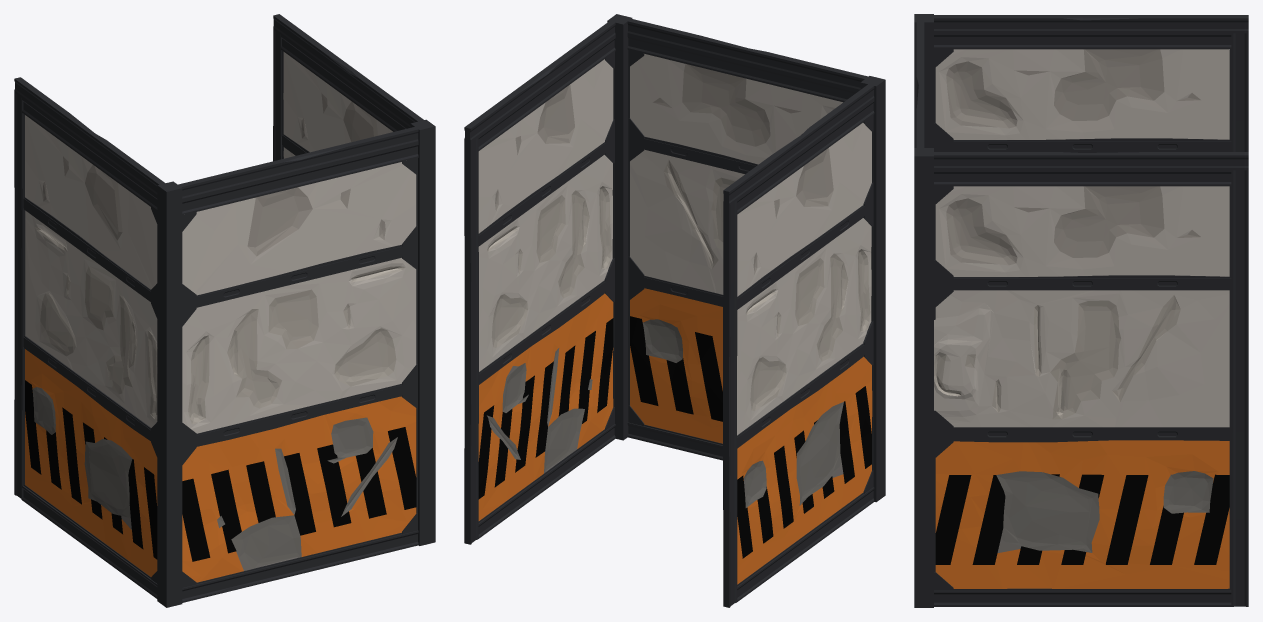
The model's file is SM_Wall_Angle_Broken_04.gltf.
The picture shows the model from 3 angles, left to right: view 1: azimuth 30°, elevation 25°; view 2: azimuth 150°, elevation 25°; view 3: azimuth 270°, elevation 25°; orthographic projection. The views are drawn at different scales.
Visible parts, largest first — view 1: SM_Wall_Angle_Broken_04; view 2: SM_Wall_Angle_Broken_04; view 3: SM_Wall_Angle_Broken_04.
Boxes of the visible parts, x1,y1,x2,y2 form: SM_Wall_Angle_Broken_04: (14,14,435,607); SM_Wall_Angle_Broken_04: (464,14,885,607); SM_Wall_Angle_Broken_04: (914,14,1248,607).
Bounding box in the file's own units: 2.03 × 3 × 2.01.
